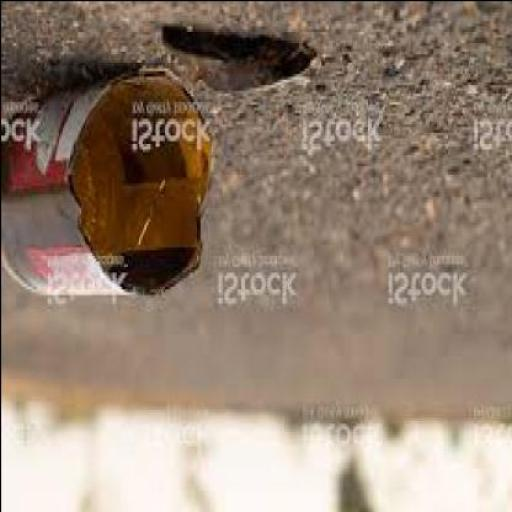glass: (1, 68, 213, 300), (160, 28, 313, 92)
